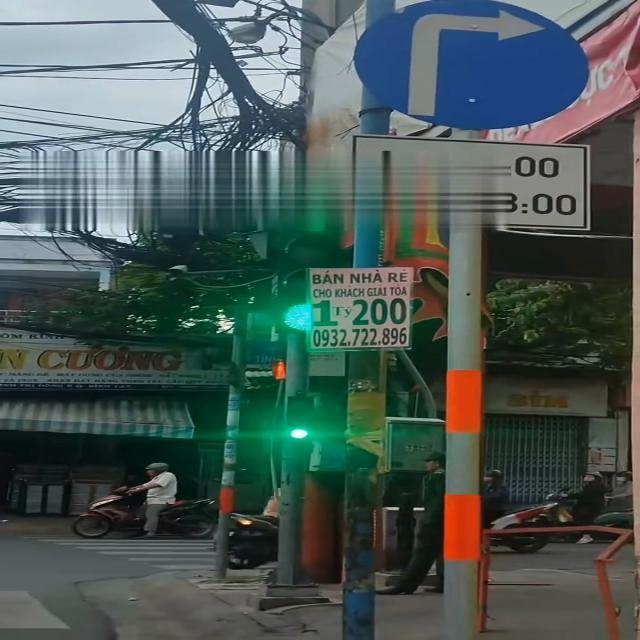301d-cac-xe-chi-duoc-re-phai-2: (350, 0, 594, 128)
